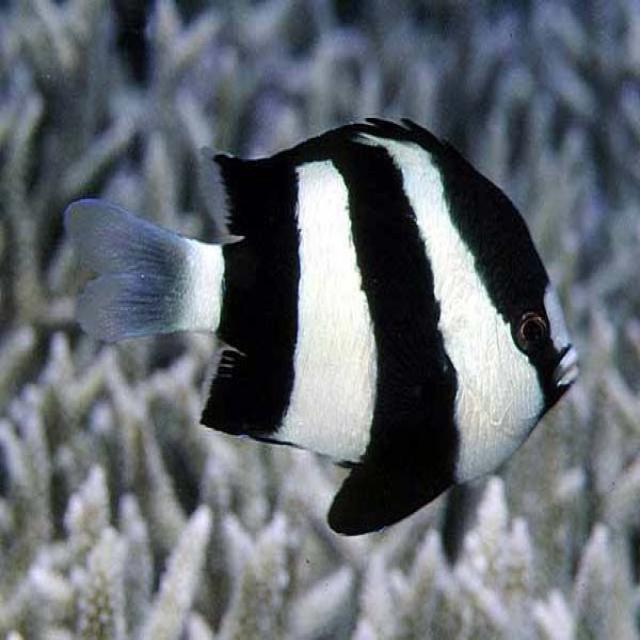ThreeStripedDamselfish: (48, 115, 585, 539)
